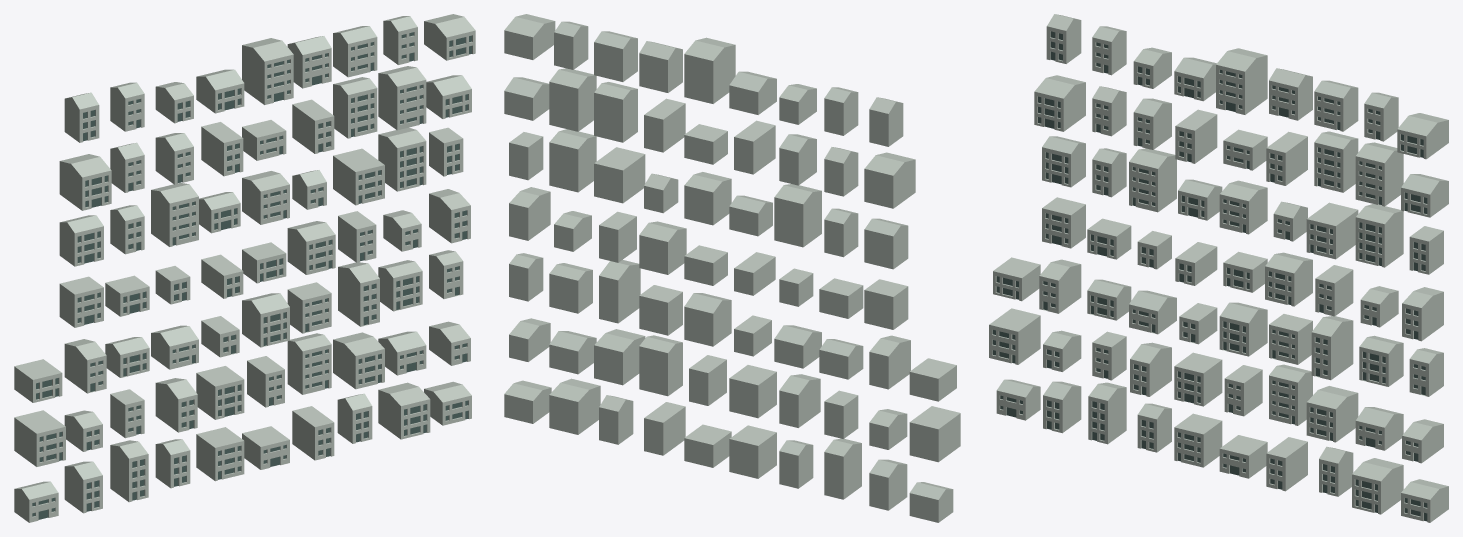
The model's file is Sahne3Kapanacak.gltf.
3 views of the same model, side by side, from view 1: azimuth 30°, elevation 25°; view 2: azimuth 150°, elevation 25°; view 3: azimuth 330°, elevation 25° (orthographic).
Visible parts, largest first — view 1: Building_049.016, Building_071.014, Building_037.016, Building_072.014, Building_068.016, Building_061.016, Building_076.014, Building_022.016, Building_020.015, Building_065.016, Building_067.016, Building_064.016 (+54 smaller); view 2: Building_049.016, Building_037.016, Building_072.014, Building_071.014, Building_022.016, Building_076.014, Building_020.015, Building_065.016, Building_064.016, Building_061.016, Building_067.016, Building_068.016 (+54 smaller); view 3: Building_049.016, Building_037.016, Building_071.014, Building_072.014, Building_068.016, Building_067.016, Building_020.015, Building_022.016, Building_076.014, Building_065.016, Building_064.016, Building_061.016 (+54 smaller).
Boxes of the visible parts, x1,y1,x2,y2 form: Building_049.016: (242,38,293,104); Building_071.014: (378,66,426,130); Building_037.016: (151,183,198,246); Building_072.014: (378,127,426,191); Building_068.016: (333,332,384,389); Building_061.016: (287,333,331,394); Building_076.014: (378,382,430,439); Building_022.016: (59,154,111,210); Building_020.015: (14,410,65,466); Building_065.016: (333,148,384,205); Building_067.016: (338,262,379,326); Building_064.016: (333,77,377,138); Building_049.016: (684,37,735,103); Building_037.016: (774,184,821,247); Building_072.014: (549,129,596,192); Building_071.014: (549,68,596,131); Building_022.016: (864,152,915,208); Building_076.014: (549,378,600,434); Building_020.015: (909,406,960,462); Building_065.016: (594,147,645,203); Building_064.016: (594,82,637,142); Building_061.016: (639,335,682,396); Building_067.016: (599,260,640,323); Building_068.016: (594,329,645,385); Building_049.016: (1216,48,1267,114); Building_037.016: (1129,148,1176,212); Building_071.014: (1355,142,1403,206); Building_072.014: (1355,204,1403,267); Building_068.016: (1306,386,1358,442); Building_067.016: (1311,316,1353,380); Building_020.015: (989,308,1040,364); Building_022.016: (1034,75,1085,131); Building_076.014: (1352,458,1403,514); Building_065.016: (1306,202,1358,259); Building_064.016: (1314,131,1358,192); Building_061.016: (1269,364,1312,425).
Bounding box in the file's own units: 0.7334 × 0.6652 × 0.0652.
